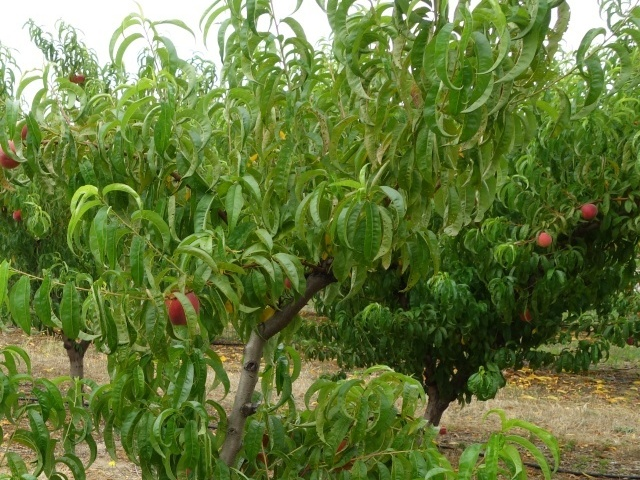peach: (161, 286, 203, 327), (1, 137, 22, 171), (578, 199, 601, 223), (532, 229, 555, 251)
